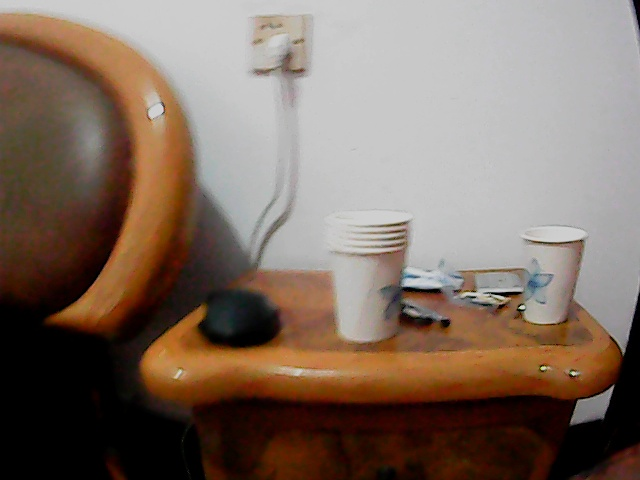cup: (325, 210, 410, 344)
mouse: (193, 286, 287, 345)
